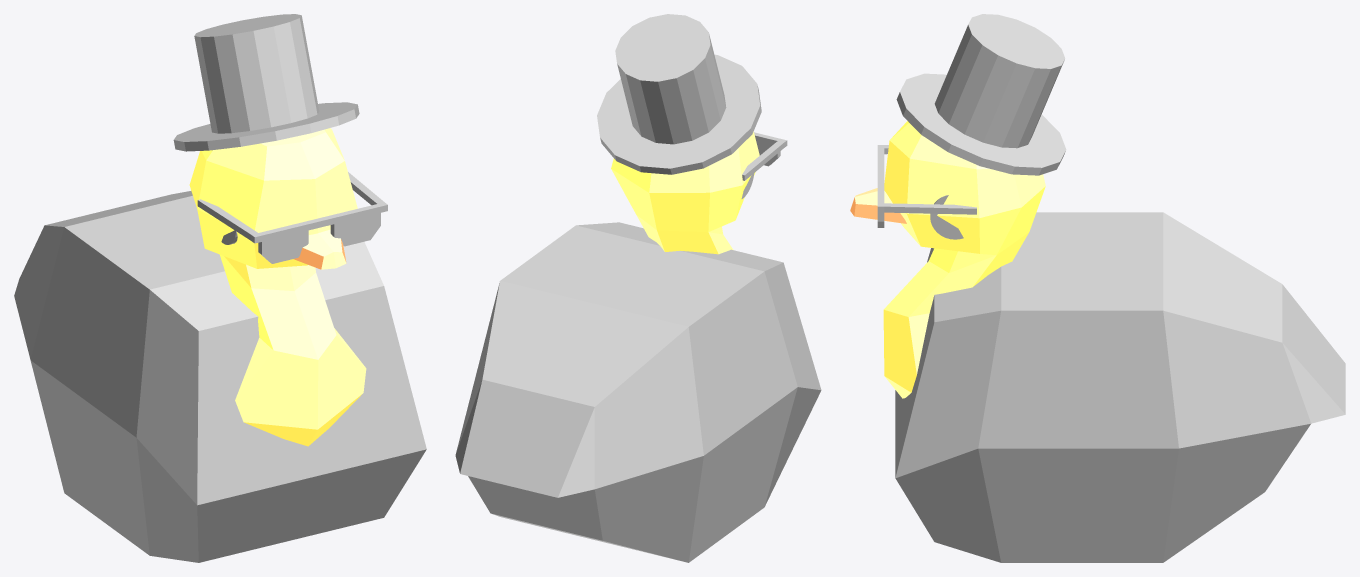
Rendered from duck.fbx.
3 renders of one model, left to right at view 1: azimuth 30°, elevation 25°; view 2: azimuth 150°, elevation 25°; view 3: azimuth 270°, elevation 25°, orthographic. The views are drawn at different scales.
Parts seen in each view (by area): view 1: Cube, Cube.001, Cylinder.001, Cube.003, Cube.002; view 2: Cube, Cylinder.001, Cube.001, Cube.003; view 3: Cube, Cube.001, Cylinder.001, Cube.003, Cube.002.
Part boxes in pixels (box(x1,y1,x2,y2)): Cube: box(14, 191, 426, 562); Cube.001: box(189, 128, 366, 446); Cylinder.001: box(173, 14, 359, 151); Cube.003: box(197, 172, 387, 263); Cube.002: box(293, 229, 346, 269); Cube: box(455, 222, 821, 562); Cylinder.001: box(597, 14, 761, 174); Cube.001: box(611, 131, 759, 254); Cube.003: box(742, 132, 787, 180); Cube: box(895, 212, 1345, 562); Cube.001: box(883, 121, 1045, 398); Cylinder.001: box(896, 14, 1066, 175); Cube.003: box(877, 145, 976, 227); Cube.002: box(850, 188, 906, 223).
Bounding box in the file's own units: 234 × 438 × 402.
